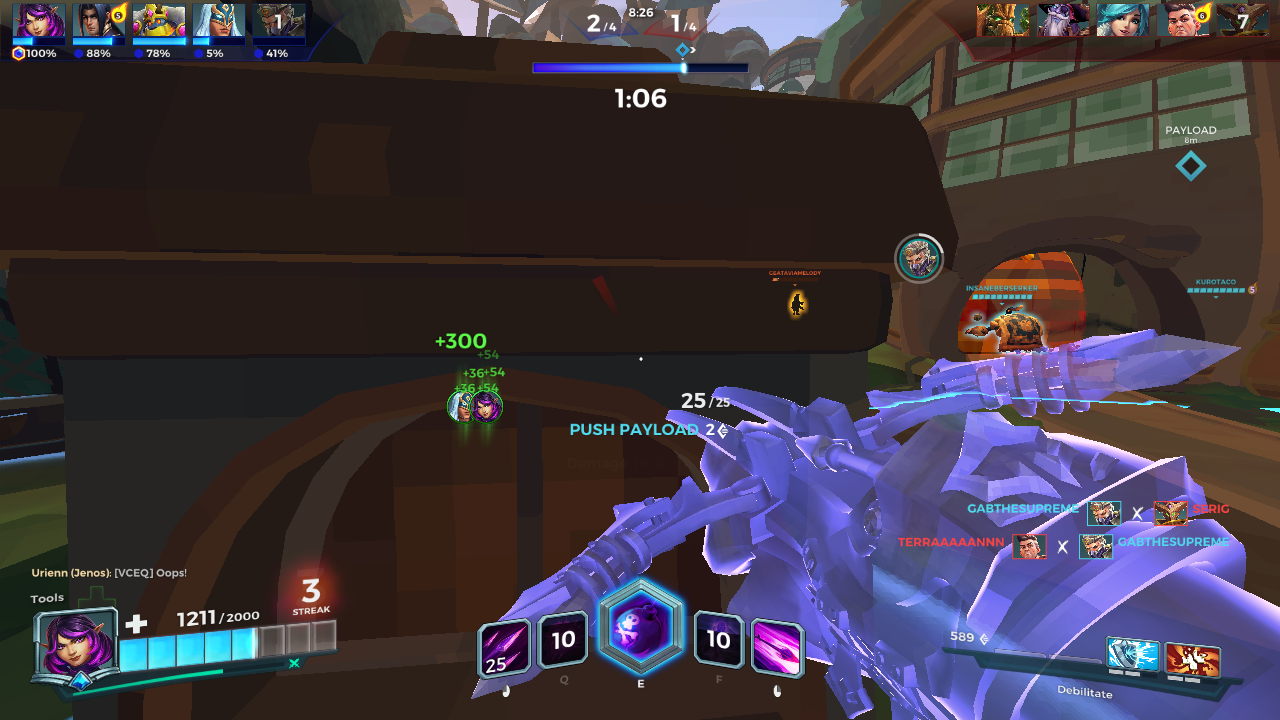model: (787, 287, 807, 321)
